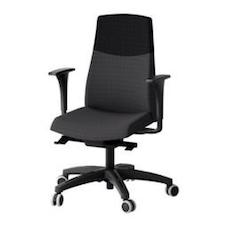chair: (17, 5, 202, 217)
